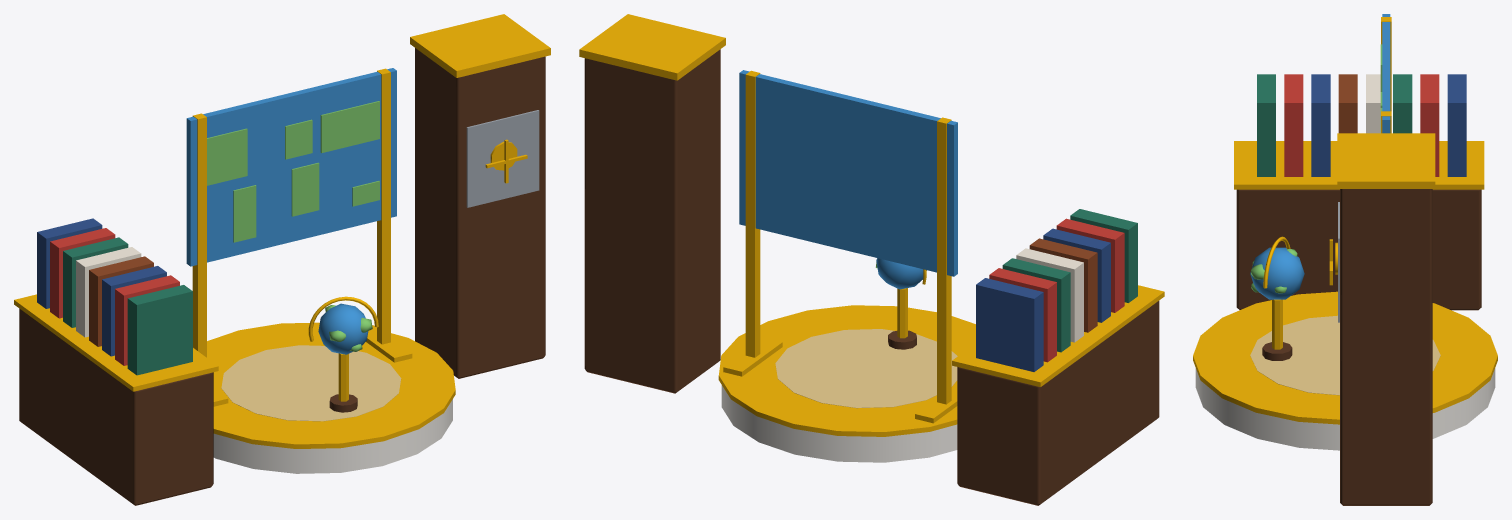
Rendered from station_transport_1.glb.
3 renders of one model, left to right at view 1: azimuth 30°, elevation 25°; view 2: azimuth 150°, elevation 25°; view 3: azimuth 270°, elevation 25°, orthographic. The views are drawn at different scales.
Visible parts, largest first — view 1: station_transport_1; view 2: station_transport_1; view 3: station_transport_1.
Boxes of the visible parts, x1,y1,x2,y2 form: station_transport_1: (14, 14, 550, 505); station_transport_1: (579, 14, 1164, 505); station_transport_1: (1193, 14, 1497, 505).
Size of the model in its own units: 2.08 by 1.32 by 1.12.
